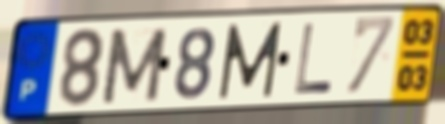7: (347, 14, 398, 99)
8: (56, 26, 106, 110), (173, 25, 217, 101)
L: (291, 21, 334, 96)
M: (98, 25, 170, 106), (217, 19, 285, 102)
